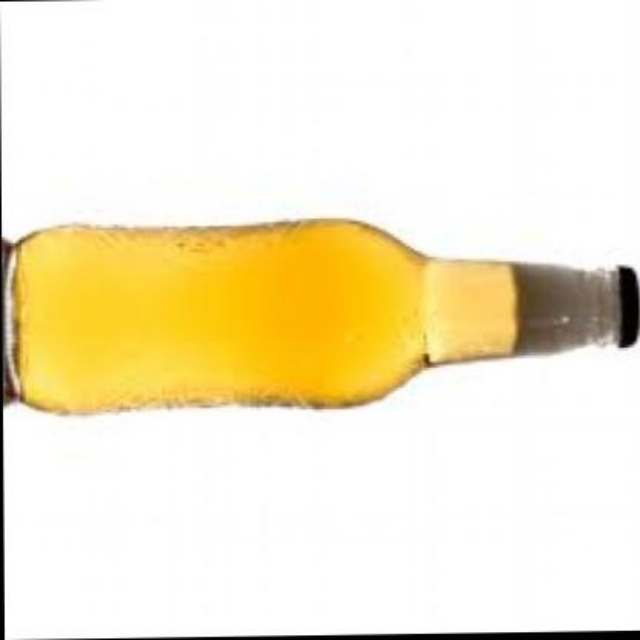trash: (5, 220, 620, 412)
